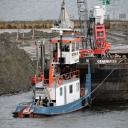tugboat: (12, 27, 96, 121)
